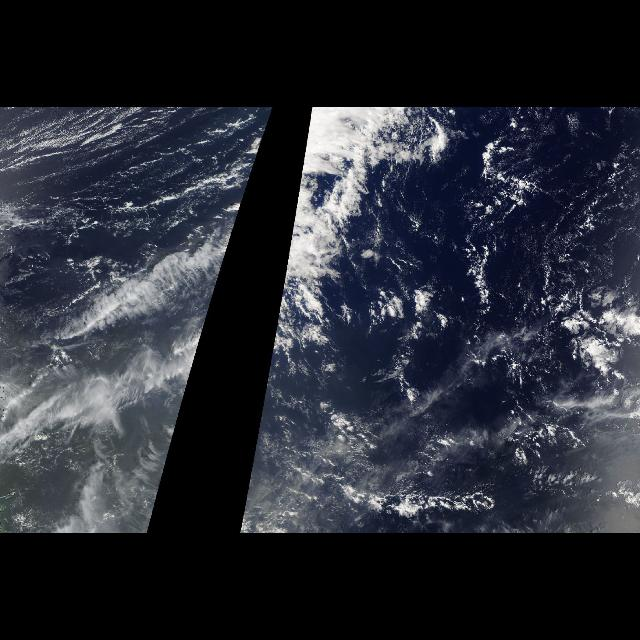Fish: (14, 245, 230, 430), (256, 322, 278, 430)
Sugar: (3, 110, 264, 252)
